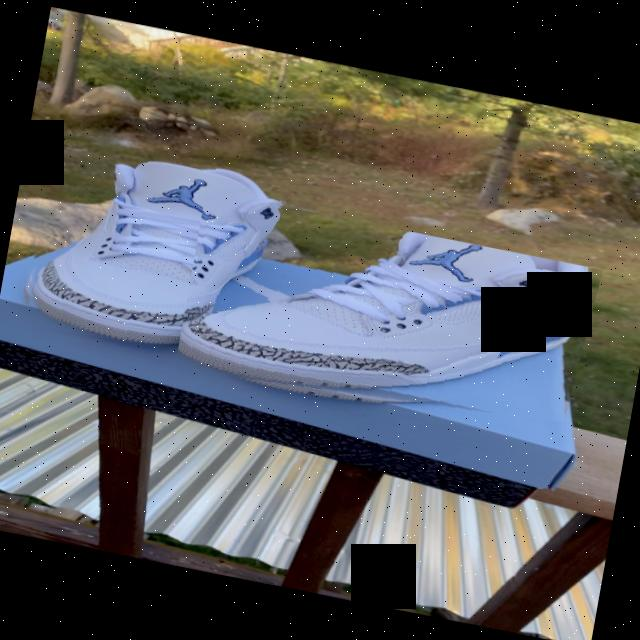shoe: (174, 190, 604, 447), (15, 131, 290, 369)
